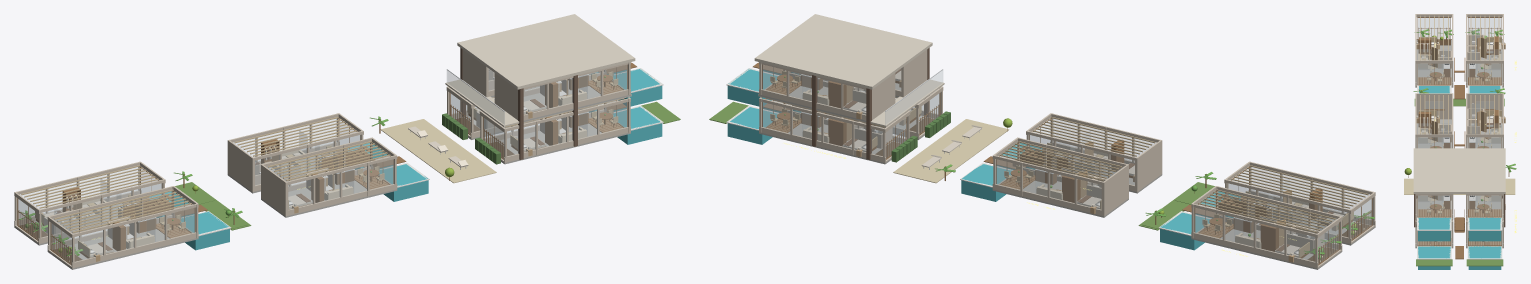
Rendered from sopro.glb.
3 renders of one model, left to right at view 1: azimuth 30°, elevation 25°; view 2: azimuth 150°, elevation 25°; view 3: azimuth 270°, elevation 25°, orthographic. The views are drawn at different scales.
Visible parts, largest first — view 1: C_Cobertura, T02_VidroS, C_DeckFrente, CT02_VidroS, T04_VidroS, CT04_VidroS, T02_PiscinaCasco, T04_PiscinaCasco, CT02_PiscinaCasco, T02_VidroN, CT04_PiscinaCasco, T01_VidroS (+28 smaller); view 2: C_Cobertura, C_DeckFrente, T01_VidroN, CT01_VidroN, T03_VidroN, CT03_VidroN, T03_PiscinaCasco, T01_PiscinaCasco, CT01_PiscinaCasco, T02_VidroS, T02_VidroN, CT03_PiscinaCasco (+26 smaller); view 3: C_Cobertura, T04_OesteMuro, CT03_PiscinaCasco, CT04_PiscinaCasco, T03_OesteMuro, CT01_PiscinaCasco, CT02_PiscinaCasco, T01_Piso, C_DeckFrente, CT03_VidroPiscinaA, CT04_VidroPiscinaA, T01_VidroPiscinaA (+76 smaller).
Part boxes in pixels (x1,y1,x2,y2): C_Cobertura: [457, 14, 635, 89]; T02_VidroS: [75, 208, 195, 261]; C_DeckFrente: [380, 119, 496, 183]; CT02_VidroS: [507, 102, 627, 156]; T04_VidroS: [288, 159, 393, 209]; CT04_VidroS: [524, 65, 627, 114]; T02_PiscinaCasco: [180, 211, 229, 250]; T04_PiscinaCasco: [379, 164, 428, 201]; CT02_PiscinaCasco: [613, 106, 662, 144]; T02_VidroN: [52, 192, 171, 241]; CT04_PiscinaCasco: [613, 69, 662, 106]; T01_VidroS: [41, 183, 162, 237]; C_Cobertura: [754, 14, 932, 89]; C_DeckFrente: [893, 119, 1009, 183]; T01_VidroN: [1194, 208, 1314, 261]; CT01_VidroN: [762, 102, 882, 156]; T03_VidroN: [996, 159, 1101, 209]; CT03_VidroN: [762, 65, 865, 114]; T03_PiscinaCasco: [961, 164, 1011, 201]; T01_PiscinaCasco: [1160, 212, 1209, 250]; CT01_PiscinaCasco: [727, 107, 777, 144]; T02_VidroS: [1251, 167, 1370, 215]; T02_VidroN: [1227, 183, 1348, 237]; CT03_PiscinaCasco: [727, 69, 777, 106]; C_Cobertura: [1413, 148, 1505, 193]; T04_OesteMuro: [1415, 93, 1453, 119]; CT03_PiscinaCasco: [1468, 217, 1501, 241]; CT04_PiscinaCasco: [1418, 217, 1450, 241]; T03_OesteMuro: [1466, 93, 1503, 118]; CT01_PiscinaCasco: [1468, 246, 1501, 269]; CT02_PiscinaCasco: [1418, 246, 1450, 269]; T01_Piso: [1467, 40, 1502, 84]; C_DeckFrente: [1404, 178, 1515, 194]; CT03_VidroPiscinaA: [1469, 196, 1484, 216]; CT04_VidroPiscinaA: [1418, 196, 1433, 216]; T01_VidroPiscinaA: [1469, 64, 1484, 84].
Size of the model in its own units: 50.97 by 6.99 by 10.71.
